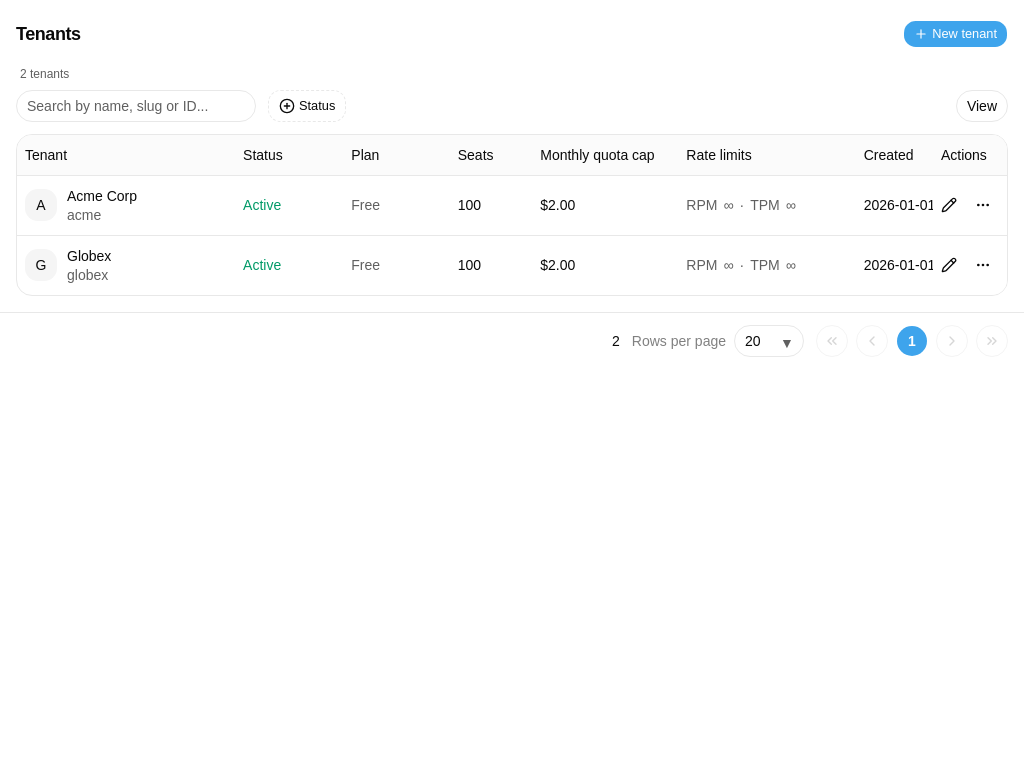
Test: AdminTenantsPage list › search filters in the browser by name, slug and id; the server is not asked
This screenshot has width=1024, height=768.
Expected: the text "Acme Corp" is shown, [67,186,137,206]
Type "glob" into the field with placeholder "Search by name, slug or ID..." at (136, 106), box [16,90,256,122]
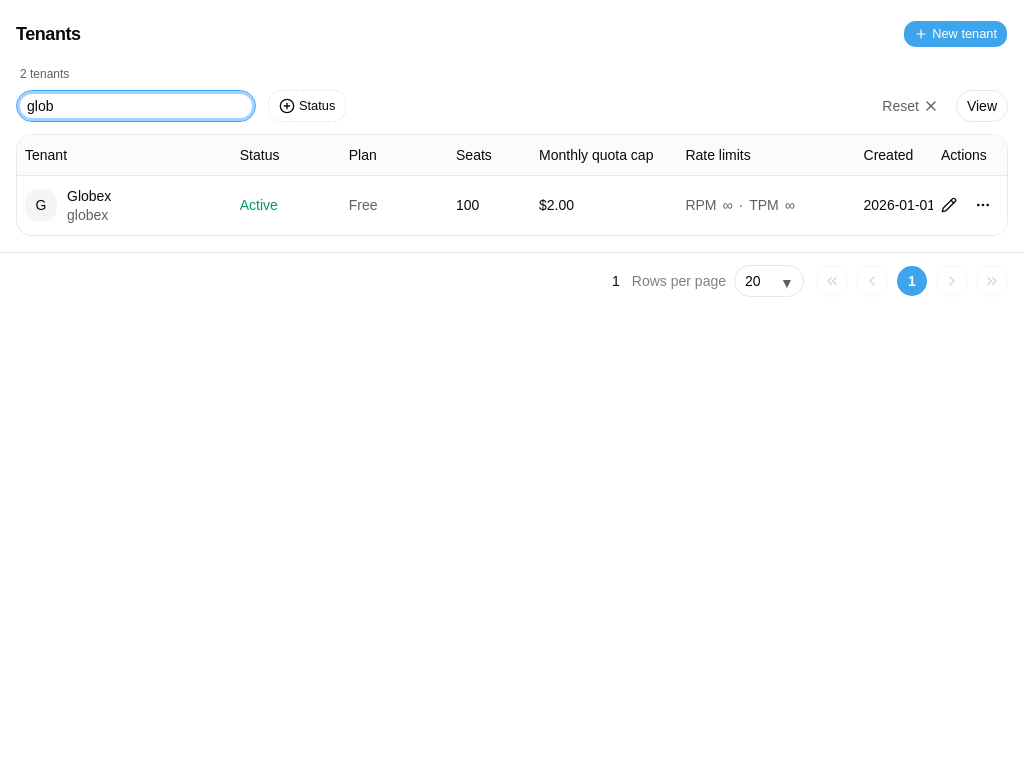
Expected: the text "Globex" is shown, [67,186,111,206]
Now the text "Acme Corp" is gone
Replace the text in the field with placeholder "Search by name, slug or ID..." with "nothing-like-this" at (136, 106), box [16,90,256,122]
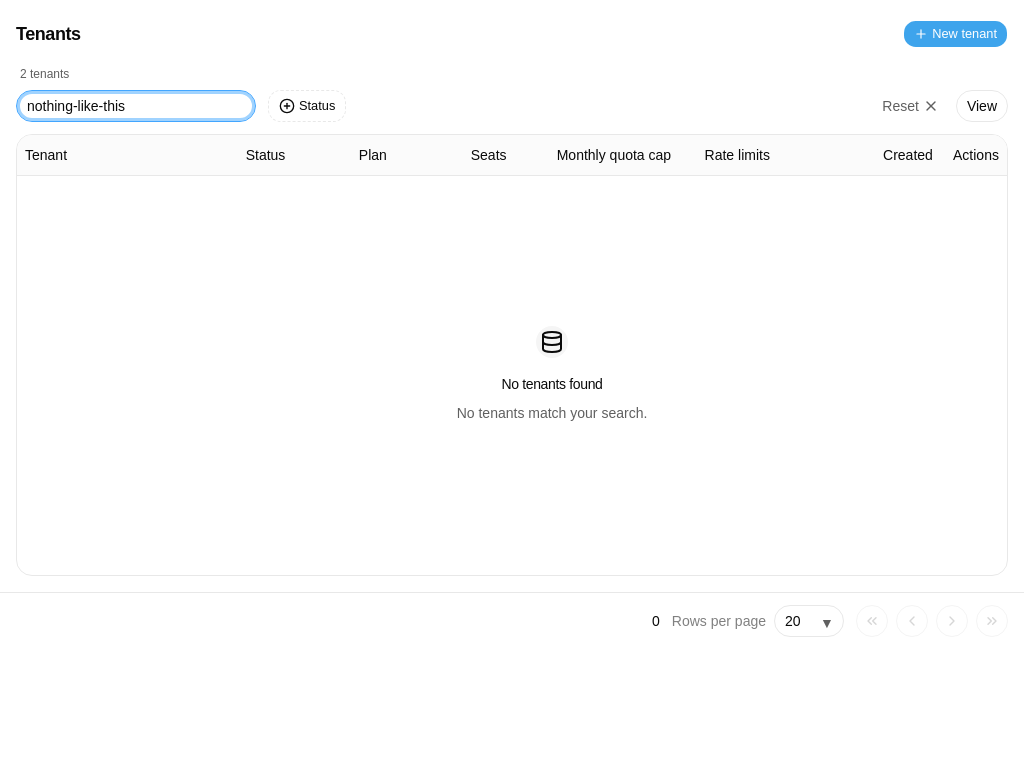
Now the text "No tenants match your search." is shown, box [457,402,647,425]
